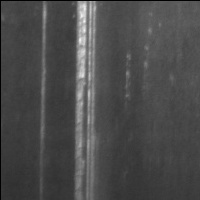scratches: (71, 1, 100, 200), (37, 1, 50, 173)
